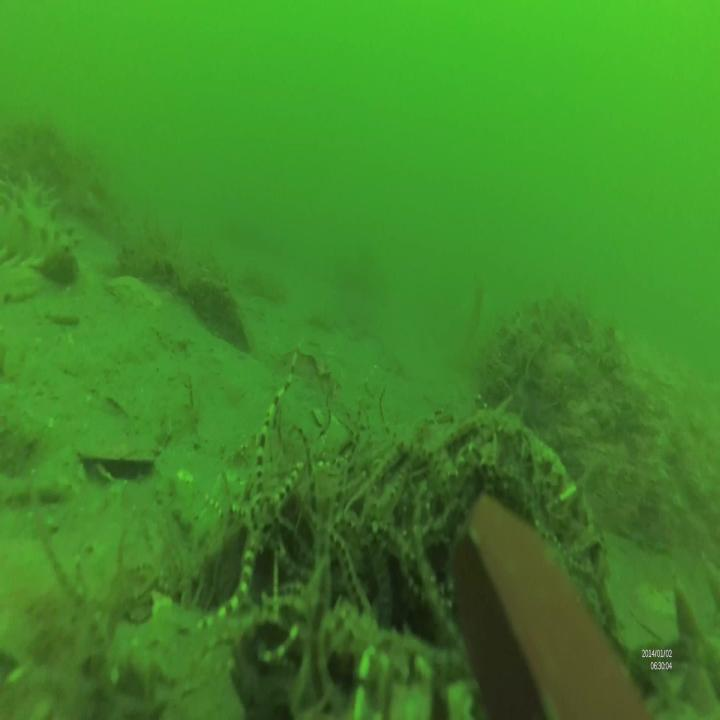holothurian: (622, 554, 720, 718), (1, 170, 80, 283)
scallop: (78, 428, 156, 485)
starfish: (177, 356, 353, 640)
